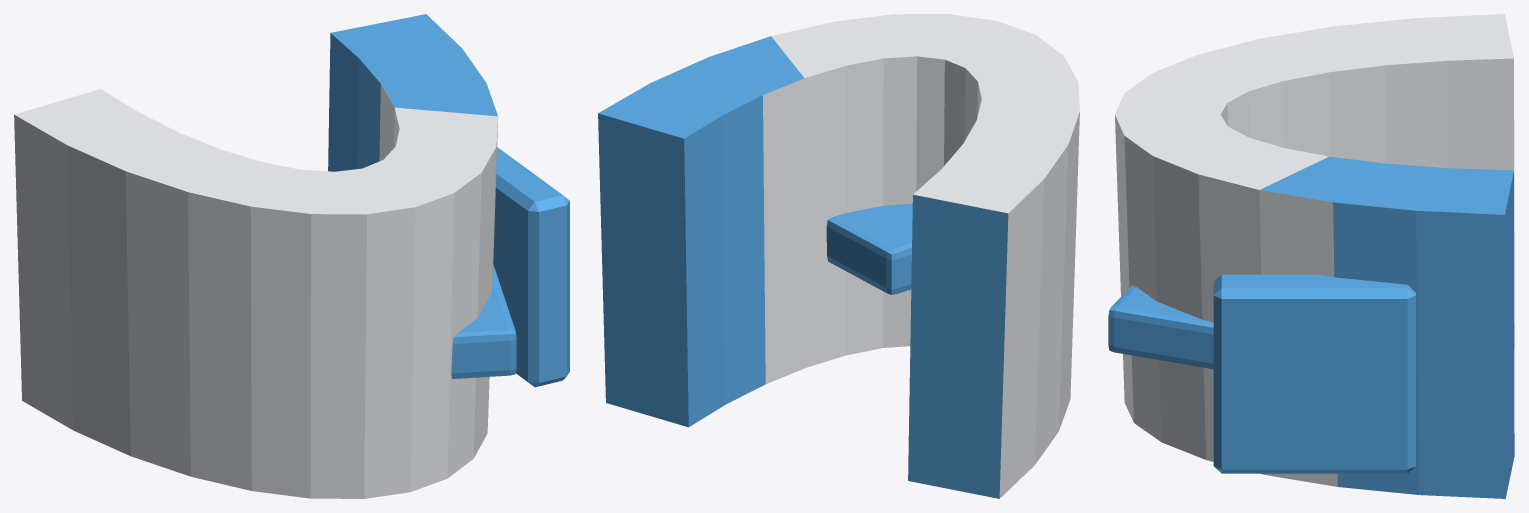
The model's file is left_shoulder__winged_fin.glb.
3 renders of one model, left to right at view 1: azimuth 30°, elevation 25°; view 2: azimuth 150°, elevation 25°; view 3: azimuth 270°, elevation 25°, orthographic.
Visible parts, largest first — view 1: armor_armor_left_shoulder__winged_fin_v001_v001; view 2: armor_armor_left_shoulder__winged_fin_v001_v001; view 3: armor_armor_left_shoulder__winged_fin_v001_v001.
Part boxes in pixels (<box>): armor_armor_left_shoulder__winged_fin_v001_v001: <box>14,14,569,498</box>; armor_armor_left_shoulder__winged_fin_v001_v001: <box>598,14,1079,498</box>; armor_armor_left_shoulder__winged_fin_v001_v001: <box>1108,14,1514,498</box>.
Size of the model in its own units: 0.1772 by 0.118 by 0.1507.
